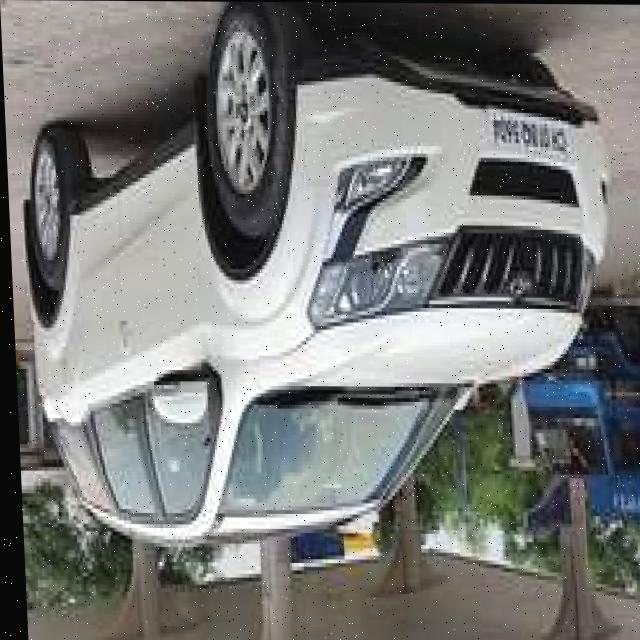plate: (485, 109, 569, 160)
